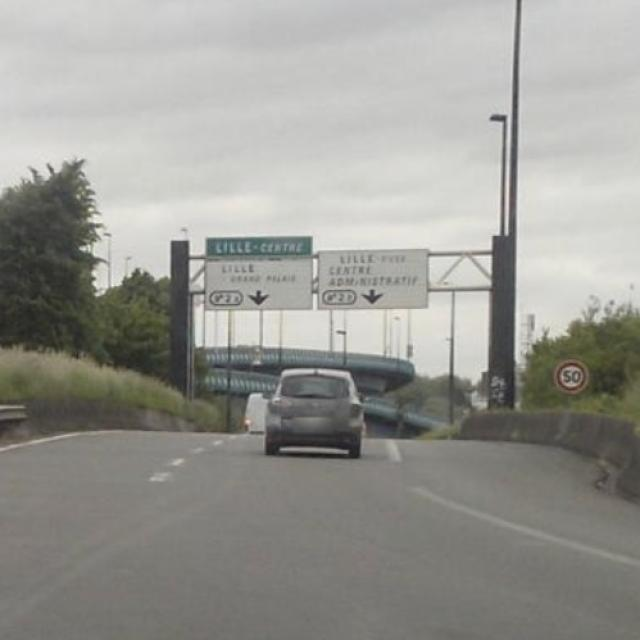speed_50: (556, 361, 587, 392)
